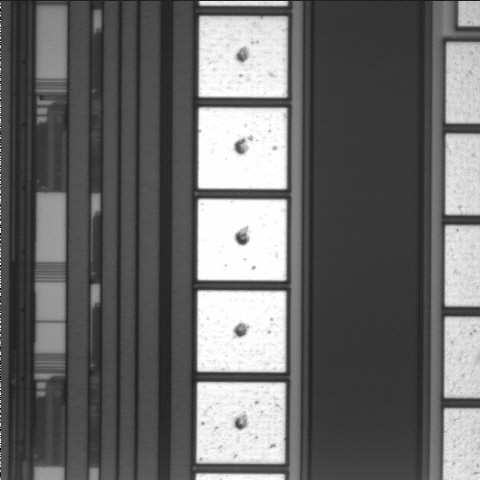pad: (196, 382, 286, 464), (198, 199, 287, 281), (199, 16, 287, 98), (198, 108, 287, 189), (197, 291, 286, 372)
